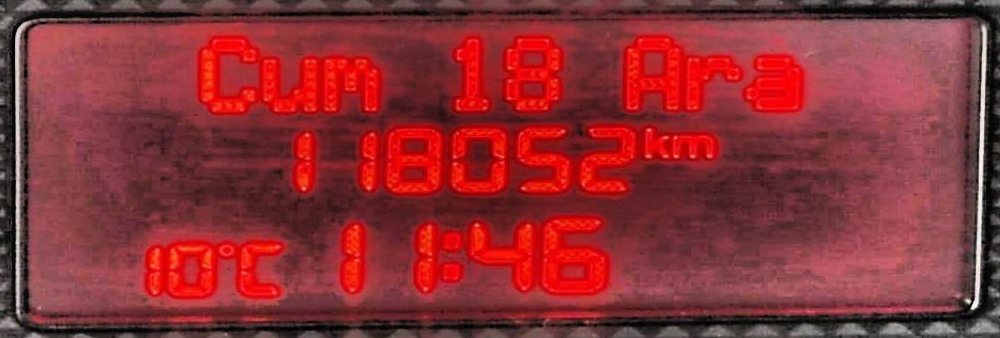0: (442, 122, 512, 196), (164, 238, 215, 299)
1: (435, 29, 494, 116), (328, 216, 370, 298), (402, 214, 438, 298), (282, 126, 325, 196), (346, 123, 382, 195), (136, 239, 165, 298)
2: (574, 119, 635, 196)
4: (465, 217, 534, 296)
5: (512, 120, 573, 197)
6: (537, 211, 612, 298)
8: (496, 29, 567, 114), (382, 120, 442, 197)
X: (185, 28, 259, 118), (612, 29, 683, 114), (743, 48, 810, 116), (320, 49, 385, 115), (259, 50, 320, 117), (684, 47, 742, 113), (236, 236, 284, 300), (673, 128, 720, 161), (438, 229, 464, 284), (638, 120, 671, 161)
